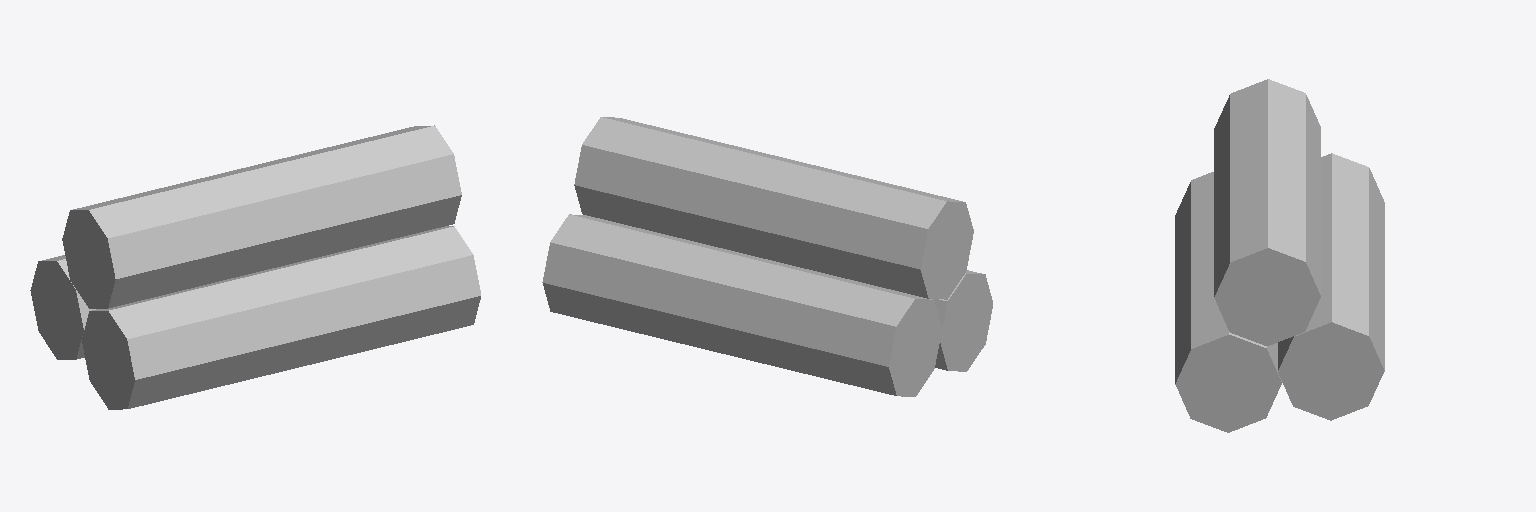
The model's file is log pile.obj.
3 views of the same model, side by side, from view 1: azimuth 30°, elevation 25°; view 2: azimuth 150°, elevation 25°; view 3: azimuth 270°, elevation 25° (orthographic).
Parts seen in each view (by area): view 1: Log_Pile_Mesh.001; view 2: Log_Pile_Mesh.001; view 3: Log_Pile_Mesh.001.
Part boxes in pixels (x1,y1,x2,y2): Log_Pile_Mesh.001: (30, 125, 480, 409); Log_Pile_Mesh.001: (542, 117, 992, 396); Log_Pile_Mesh.001: (1175, 79, 1384, 432).
Size of the model in its own units: 2.19 by 1.12 by 1.14.